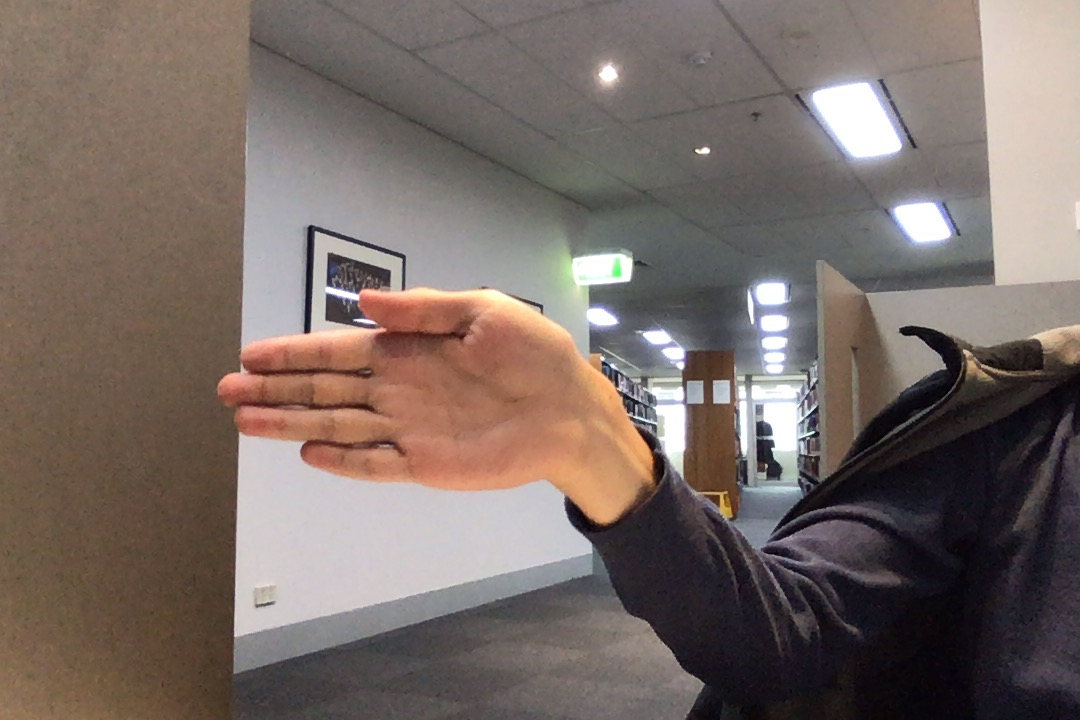palmhand: (205, 275, 603, 500)
